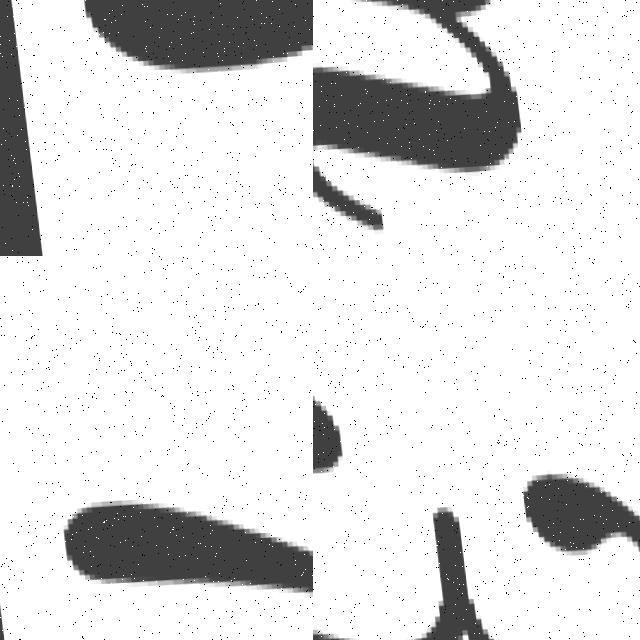3: (313, 331, 640, 640)
7: (41, 348, 313, 640)
M: (313, 0, 542, 240)
S: (54, 0, 313, 86)
